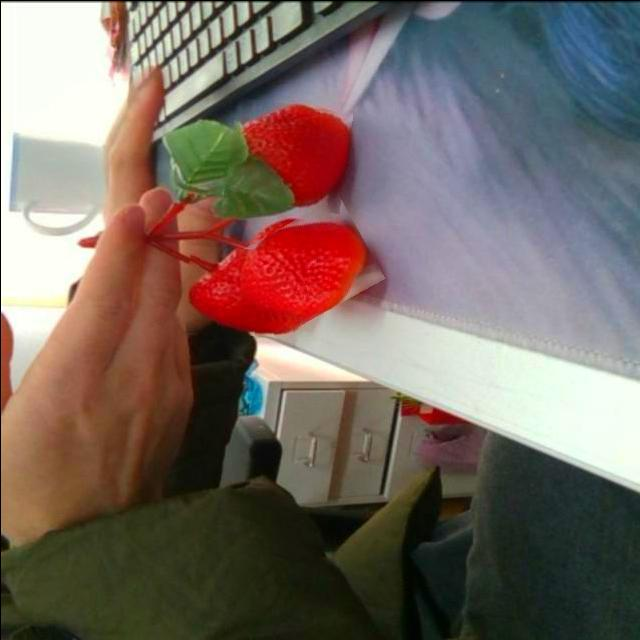strawberry: (238, 206, 377, 325), (226, 100, 350, 210), (186, 246, 304, 336)
